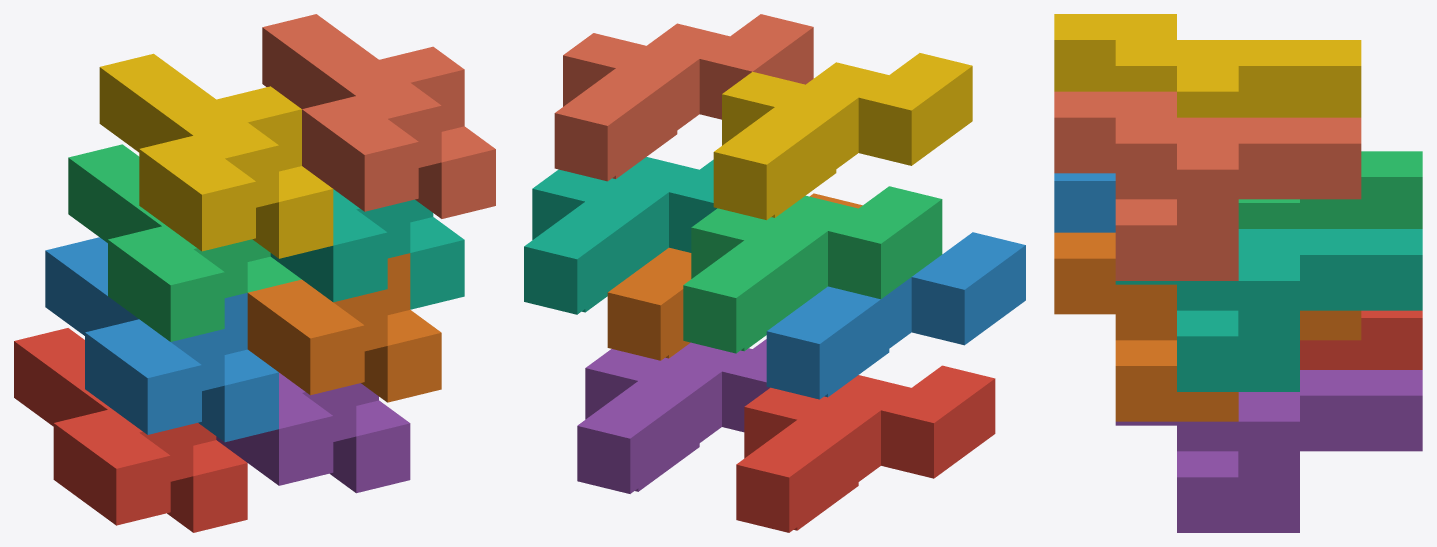
File: tiling.obj
3 views of the same model, side by side, from view 1: azimuth 30°, elevation 25°; view 2: azimuth 150°, elevation 25°; view 3: azimuth 270°, elevation 25° (orthographic). The views are drawn at different scales.
Parts seen in each view (by area): view 1: copy_1_domain_4, copy_1_domain_8, copy_1_domain_2, copy_1_domain_1, copy_1_domain_3, copy_1_domain_6, copy_1_domain_5, copy_1_domain_7; view 2: copy_1_domain_4, copy_1_domain_1, copy_1_domain_3, copy_1_domain_8, copy_1_domain_2, copy_1_domain_7, copy_1_domain_5, copy_1_domain_6; view 3: copy_1_domain_8, copy_1_domain_7, copy_1_domain_5, copy_1_domain_4, copy_1_domain_6, copy_1_domain_3, copy_1_domain_1, copy_1_domain_2.
Boxes of the visible parts, bbox=[...] form: copy_1_domain_4: bbox=[99, 53, 333, 258]; copy_1_domain_8: bbox=[262, 14, 495, 218]; copy_1_domain_2: bbox=[45, 237, 278, 442]; copy_1_domain_1: bbox=[14, 328, 247, 532]; copy_1_domain_3: bbox=[68, 144, 301, 341]; copy_1_domain_6: bbox=[247, 253, 441, 402]; copy_1_domain_5: bbox=[216, 372, 410, 493]; copy_1_domain_7: bbox=[270, 189, 464, 309]; copy_1_domain_4: bbox=[713, 53, 972, 220]; copy_1_domain_1: bbox=[736, 365, 995, 532]; copy_1_domain_3: bbox=[683, 186, 942, 353]; copy_1_domain_8: bbox=[554, 14, 813, 181]; copy_1_domain_2: bbox=[766, 232, 1025, 399]; copy_1_domain_7: bbox=[524, 157, 716, 314]; copy_1_domain_5: bbox=[577, 339, 769, 493]; copy_1_domain_6: bbox=[607, 193, 862, 360]; copy_1_domain_8: bbox=[1054, 91, 1361, 280]; copy_1_domain_7: bbox=[1115, 229, 1422, 391]; copy_1_domain_5: bbox=[1115, 370, 1422, 532]; copy_1_domain_4: bbox=[1054, 14, 1361, 117]; copy_1_domain_6: bbox=[1054, 232, 1361, 421]; copy_1_domain_3: bbox=[1238, 151, 1422, 228]; copy_1_domain_1: bbox=[1300, 310, 1422, 369]; copy_1_domain_2: bbox=[1054, 173, 1115, 232].
Bounding box in the file's own units: 7 × 7 × 6.
